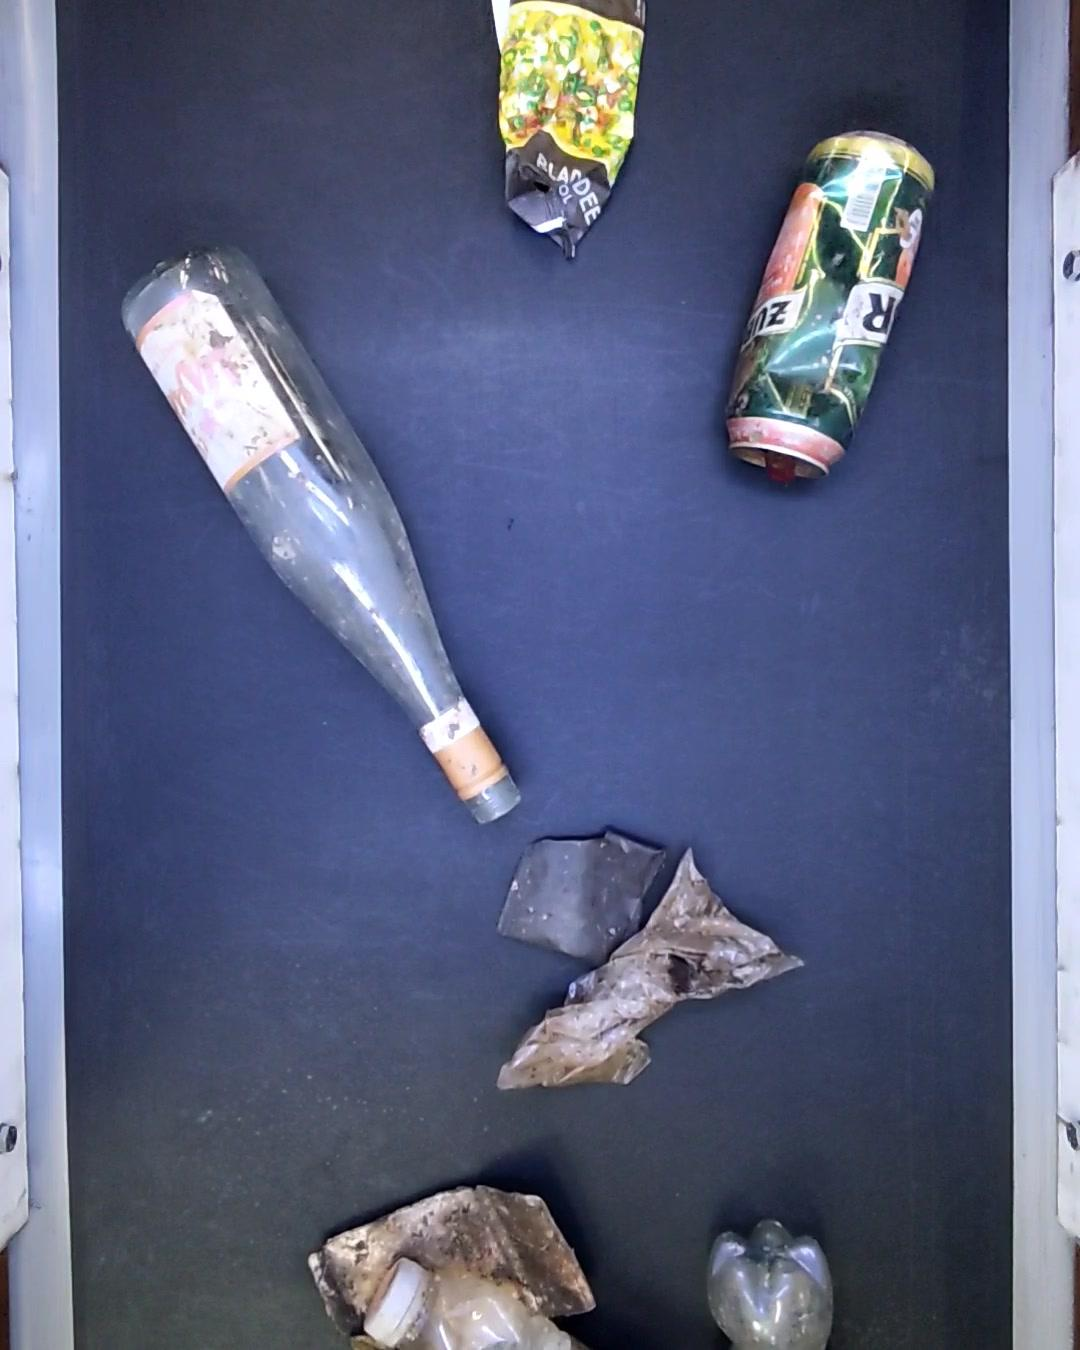Drankblikjes: (724, 134, 940, 495)
Drankflessen - 1-2 liter: (364, 1257, 577, 1350), (704, 1220, 834, 1350)
Plastic folies of stukken daarvan 2.5- 50 cm: (493, 850, 809, 1100)
Voedselverpakkingen: (484, 0, 649, 260)
